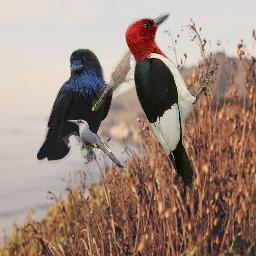Crow: (37, 48, 113, 164)
Cuckoo: (92, 48, 146, 111), (67, 119, 125, 170)
Woodpecker: (123, 11, 218, 198)
